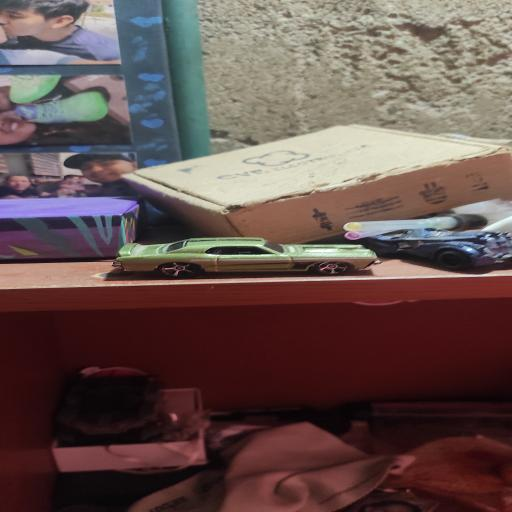Carrito: (115, 238, 376, 277)
